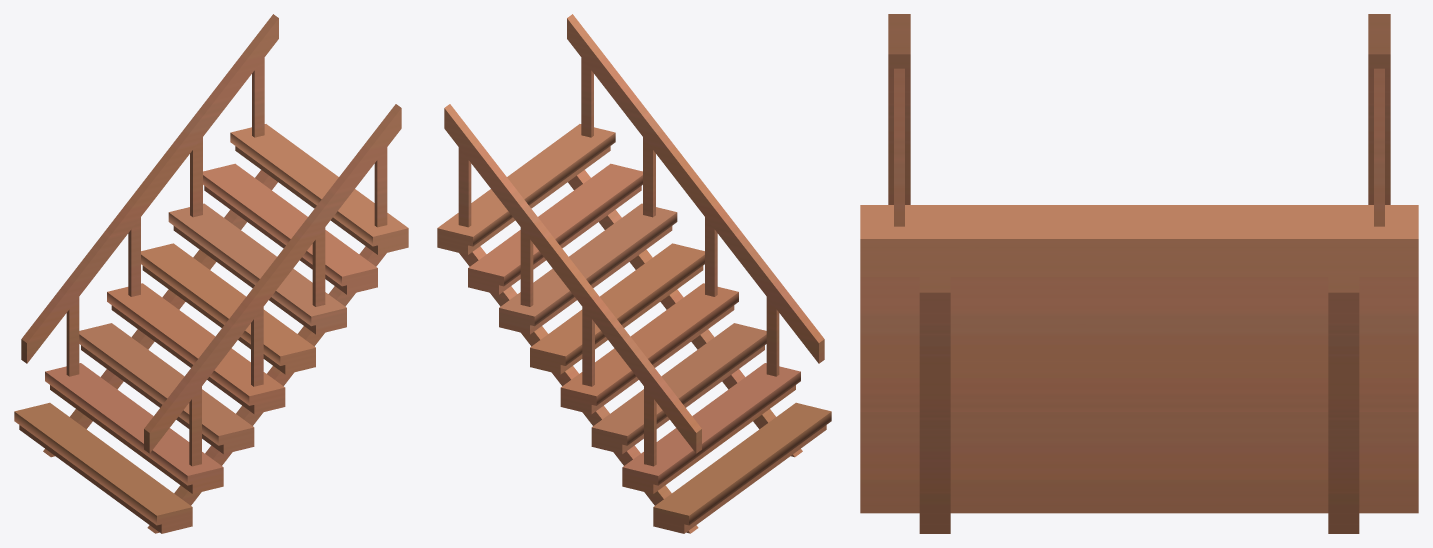
File: stairs-wide-wood-handrail.glb
3 renders of one model, left to right at view 1: azimuth 30°, elevation 25°; view 2: azimuth 150°, elevation 25°; view 3: azimuth 270°, elevation 25°, orthographic. The views are drawn at different scales.
Visible parts, largest first — view 1: stairs-wide-wood-handrail; view 2: stairs-wide-wood-handrail; view 3: stairs-wide-wood-handrail.
Boxes of the visible parts, x1,y1,x2,y2 form: stairs-wide-wood-handrail: [14, 14, 408, 533]; stairs-wide-wood-handrail: [437, 14, 831, 533]; stairs-wide-wood-handrail: [860, 14, 1418, 533].
Bounding box in the file's own units: 1.02 × 1.45 × 1.
Materials: 1 (1 with a texture image).
